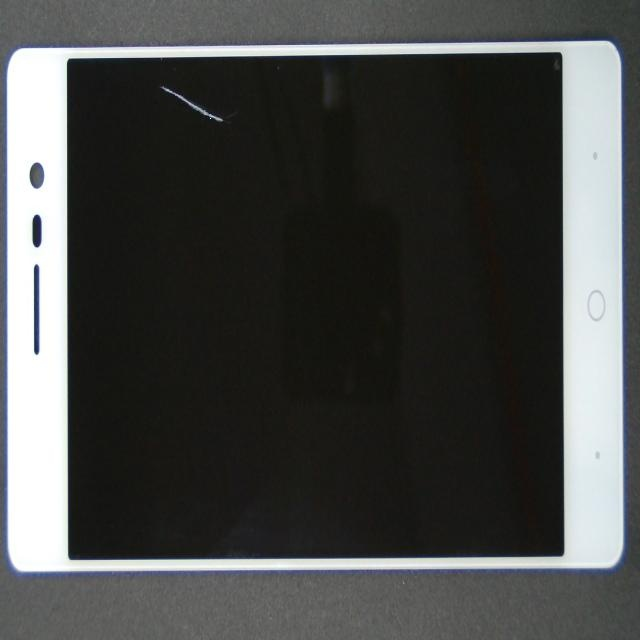scratch: (38, 43, 265, 187)
